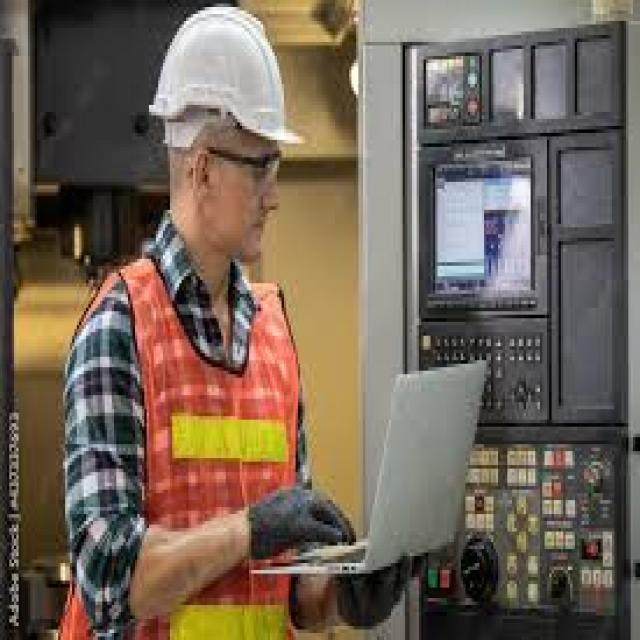Reflective-Jacket: (56, 252, 326, 636)
Safety-Helmet: (140, 3, 307, 165)
